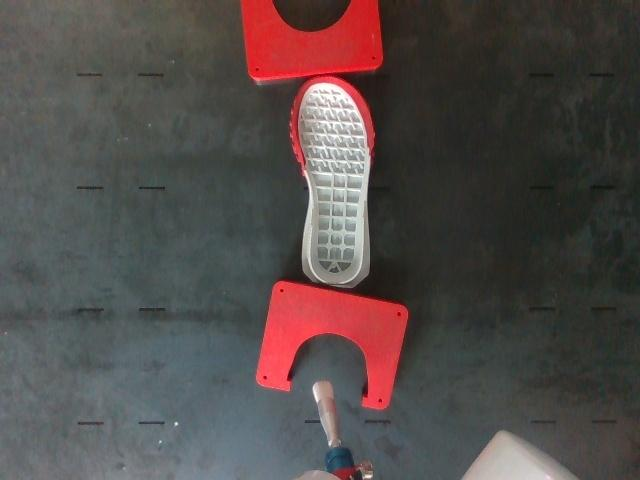shoes: (293, 79, 372, 284)
